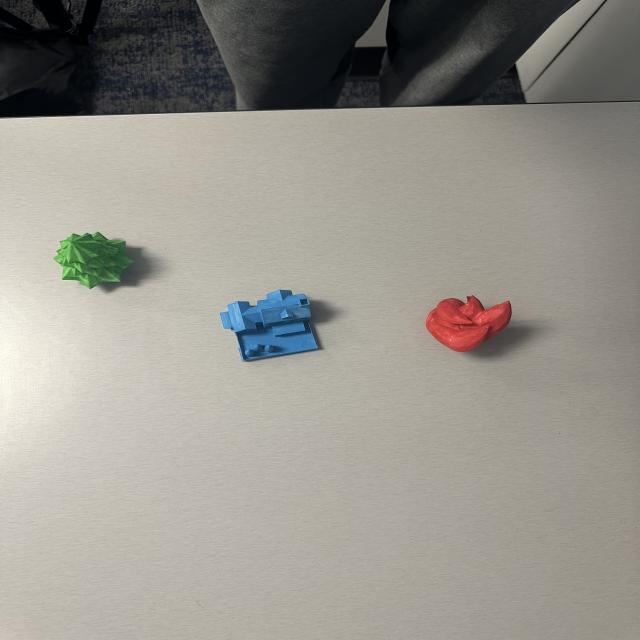fire: (423, 294, 512, 353)
house: (217, 287, 321, 363)
tree: (52, 230, 134, 290)
